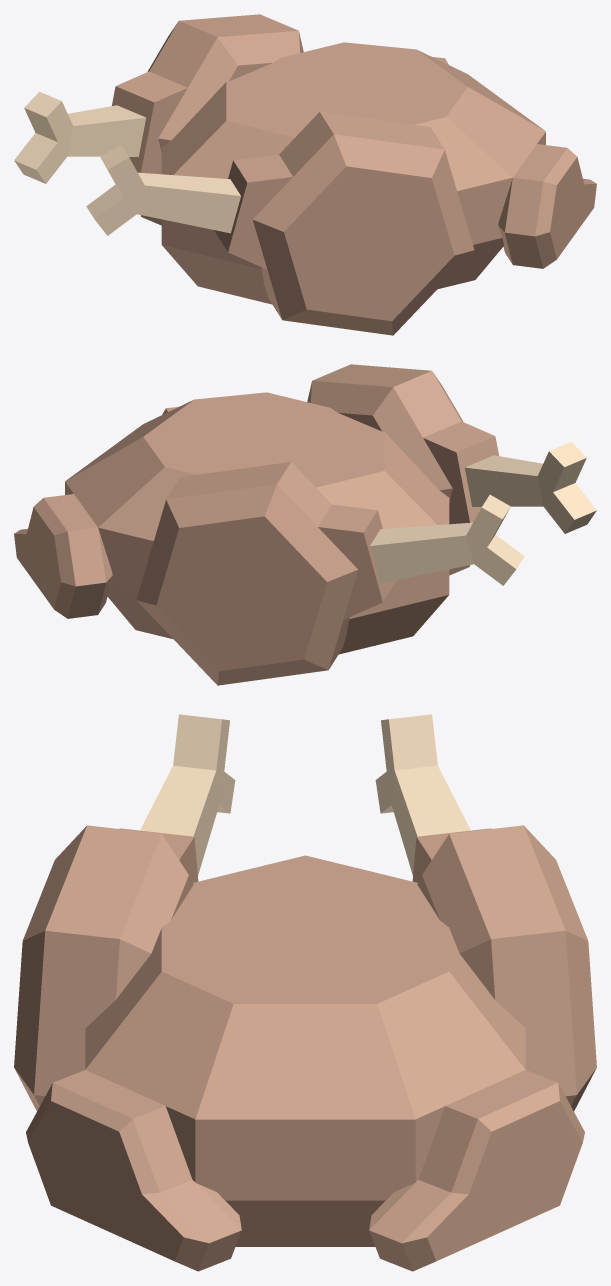
Rendered from turkey.glb.
3 views of the same model, one above another, from view 1: azimuth 30°, elevation 25°; view 2: azimuth 150°, elevation 25°; view 3: azimuth 270°, elevation 25° (orthographic). The views are drawn at different scales.
Visible parts, largest first — view 1: leg.001, turkey, leg; view 2: leg, turkey, leg.001; view 3: turkey, leg, leg.001.
Part boxes in pixels (x1,y1,x2,y2): leg.001: [86, 112, 474, 335]; turkey: [161, 42, 596, 304]; leg: [14, 14, 303, 225]; leg: [136, 462, 524, 685]; turkey: [14, 392, 449, 654]; leg.001: [307, 364, 596, 575]; turkey: [26, 855, 584, 1271]; leg: [375, 714, 596, 1110]; leg.001: [14, 714, 235, 1110].
Size of the model in its own units: 0.9511 by 0.3769 by 0.679.
